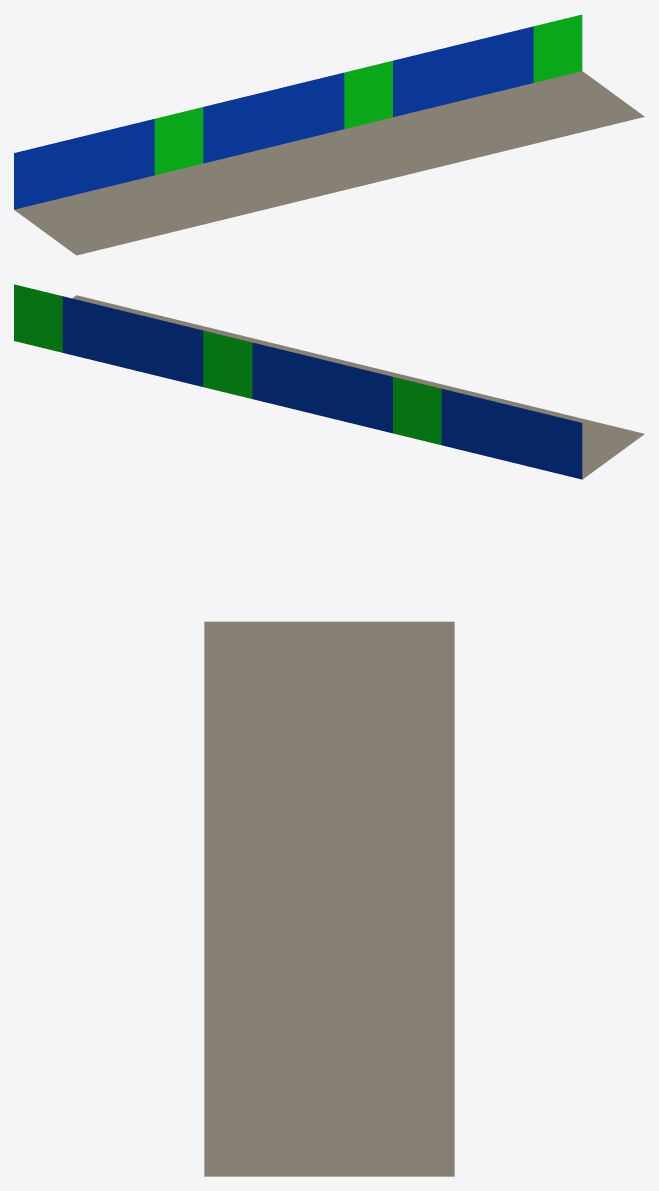
The model's file is mapSize_testing.fbx.
3 views of the same model, one above another, from view 1: azimuth 30°, elevation 25°; view 2: azimuth 150°, elevation 25°; view 3: azimuth 270°, elevation 25° (orthographic). The views are drawn at different scales.
Parts seen in each view (by area): view 1: Mapsize_testing; view 2: Mapsize_testing; view 3: Mapsize_testing.
Boxes of the visible parts, x1,y1,x2,y2 form: Mapsize_testing: [14, 14, 644, 255]; Mapsize_testing: [14, 284, 644, 479]; Mapsize_testing: [204, 621, 454, 1176].
Size of the model in its own units: 5250 by 500 by 1000.
